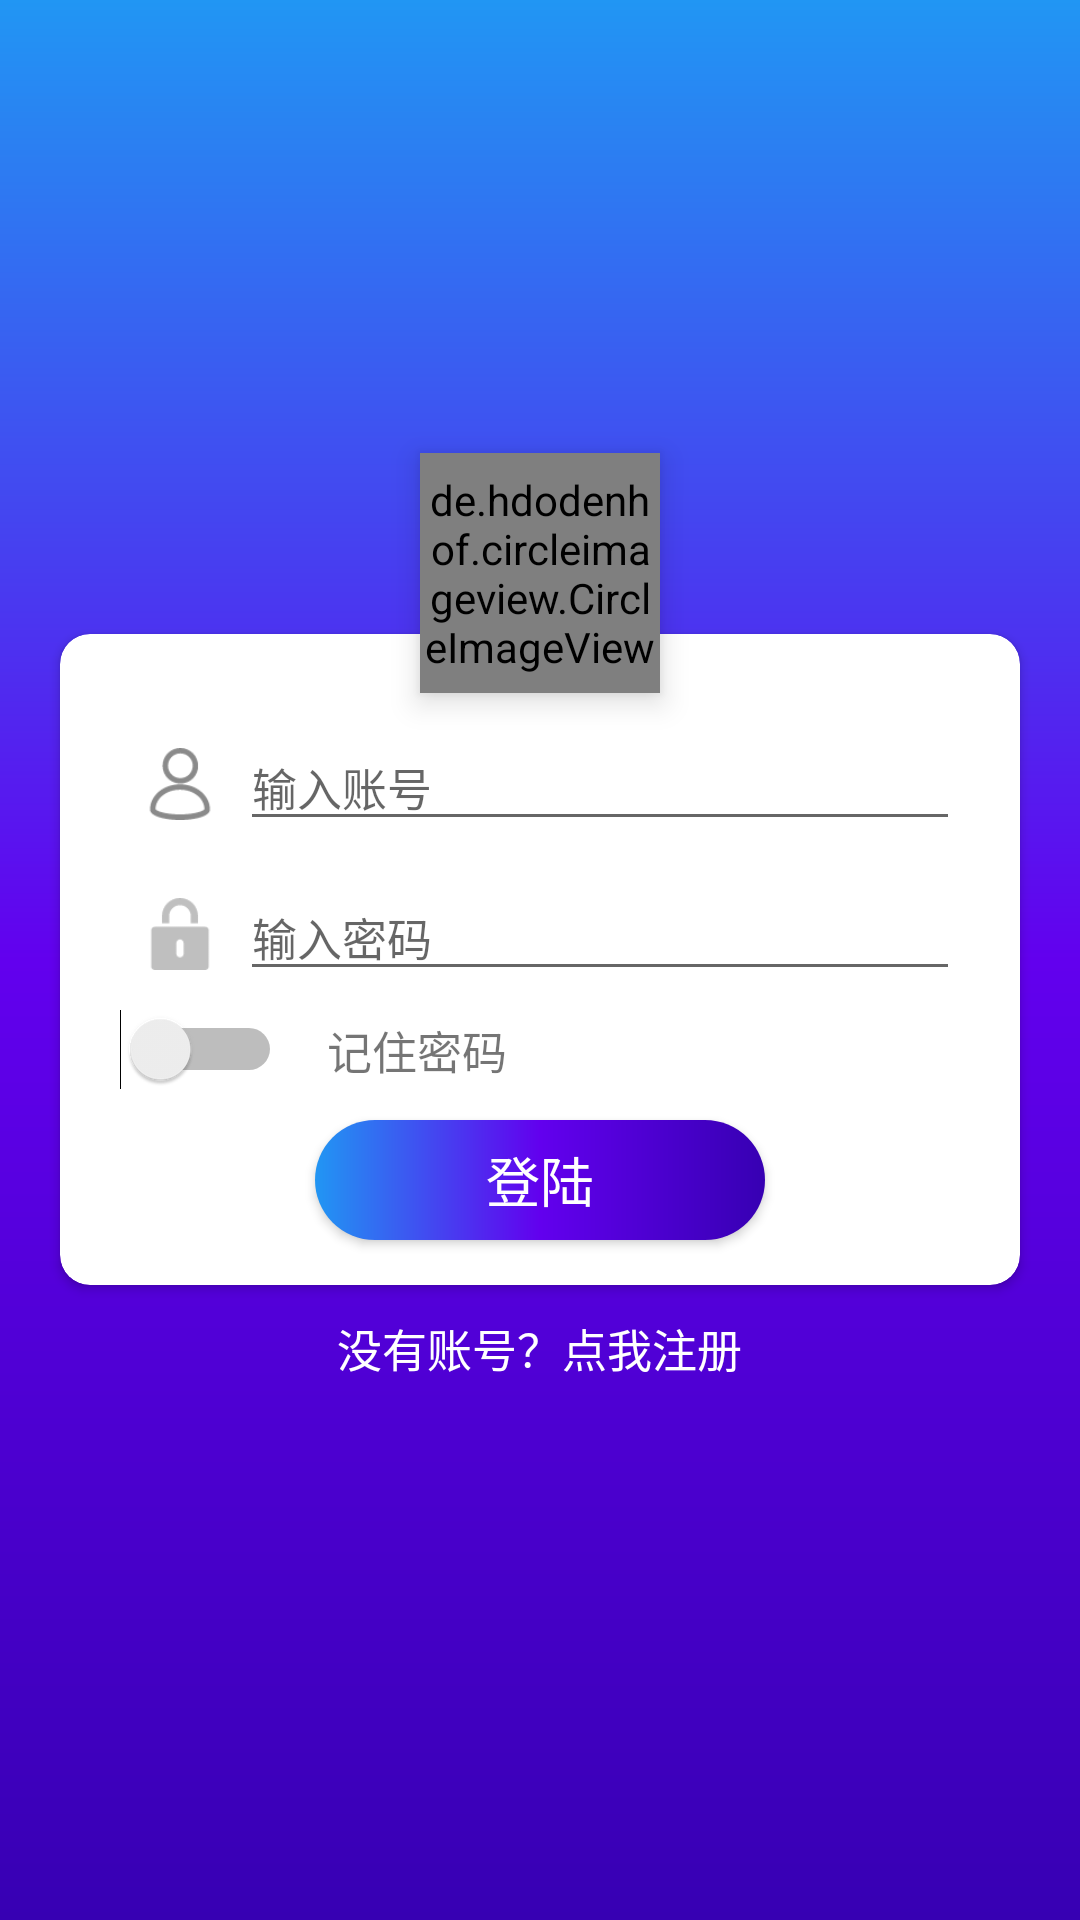

Icon bounding boxes for this 1080px×1920px phone screenshot, format [x1,y1,x2,y2]:
account input: [150,748,210,820]
password input: [151,898,209,970]
